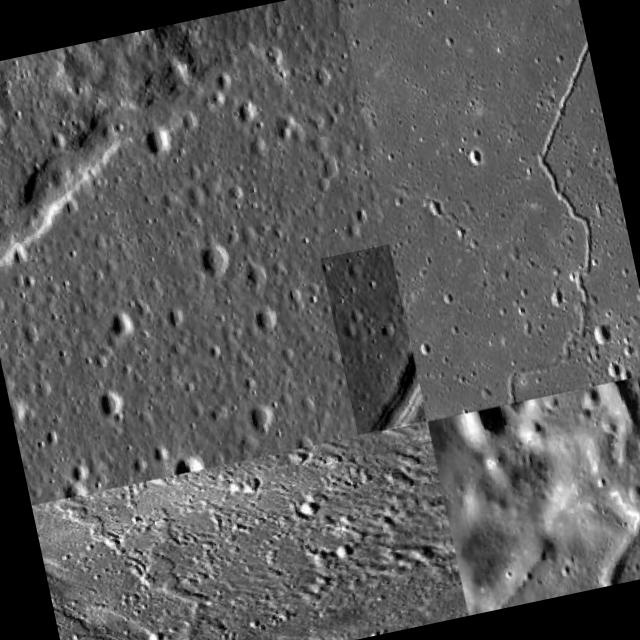crater: (342, 0, 640, 419), (0, 117, 146, 269), (321, 243, 427, 434), (553, 377, 640, 588)
